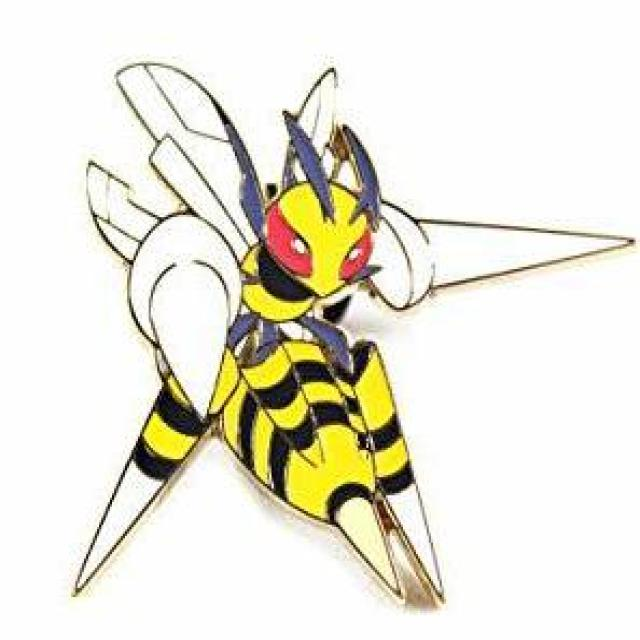Beedrill: (82, 121, 493, 594)
